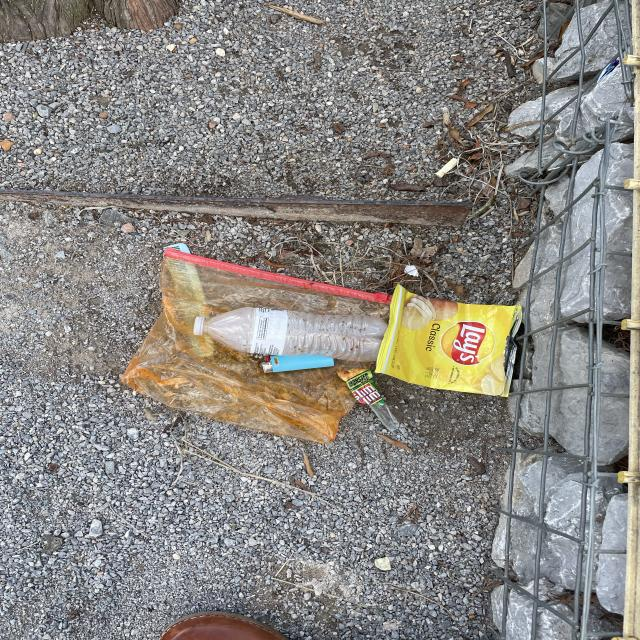plastic: (394, 282, 522, 404), (195, 303, 388, 364)
trash-zQNu: (392, 283, 532, 402), (199, 300, 387, 367)
